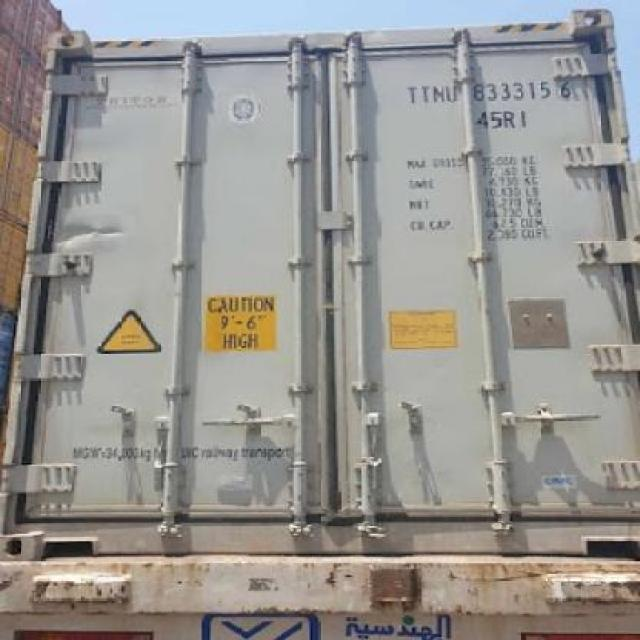ISO: (481, 106, 527, 130)
container_number: (411, 78, 585, 102)
